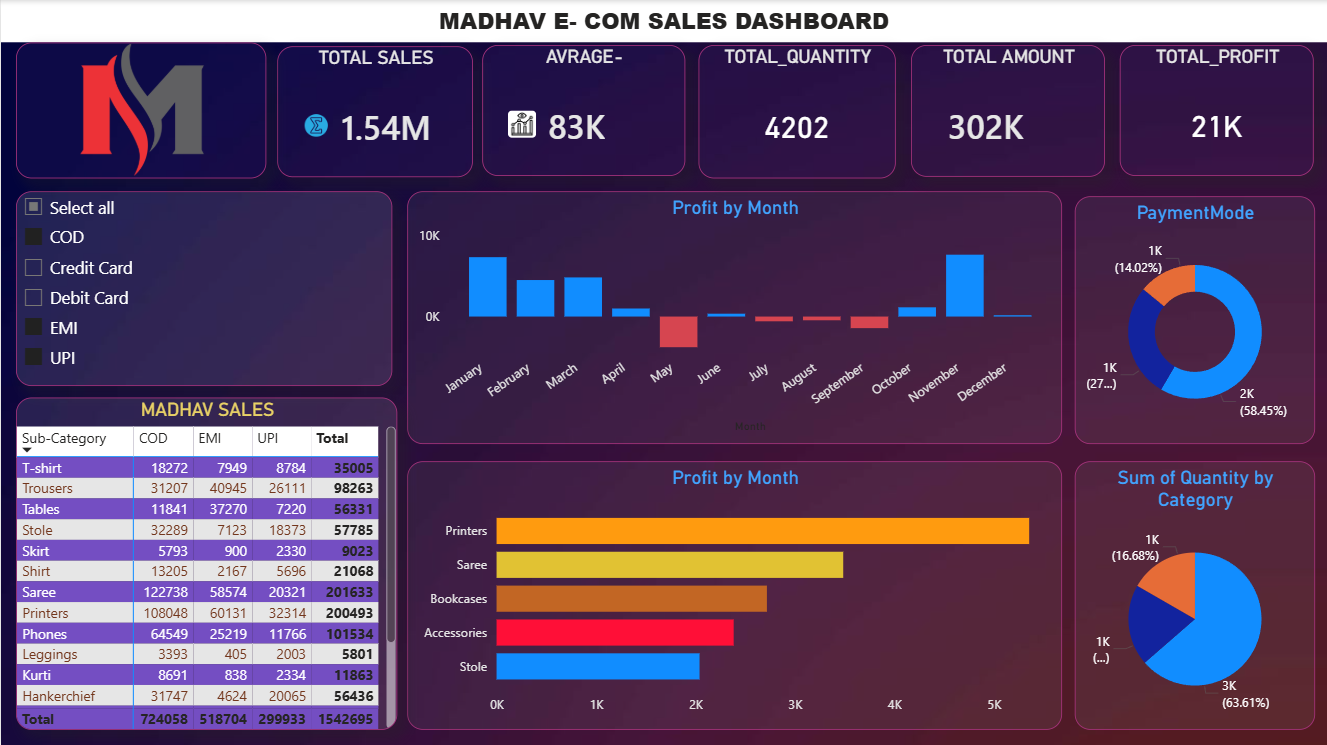

The page's visual inventory and layout, read from the dashboard file:
{"tool":"powerbi","page":{"name":"Page 1","canvas":[1280,720],"ordinal":0},"visuals":[{"type":"textbox","box":[0,0,1280,41],"z":0},{"type":"columnChart","title":"Profit by Month","fields":{"Category":["Orders.Order Date.Variation.Date Hierarchy.Month"],"Y":["Sum(Details.Profit)"]},"box":[392.1,184.6,632.2,243.7],"z":1000},{"type":"barChart","title":"Profit by Month","fields":{"Category":["Details.Sub-Category"],"Y":["Sum(Details.Profit)"]},"box":[392.1,445.2,632.2,259.4],"z":2000},{"type":"pieChart","fields":{"Category":["Details.Category"],"Y":["Sum(Details.Quantity)"]},"box":[1036.3,445.2,231.6,259.4],"z":3000},{"type":"donutChart","title":" PaymentMode","fields":{"Category":["Details.PaymentMode"],"Y":["Sum(Details.Quantity)"]},"box":[1036.3,189.4,231.6,238.9],"z":4000},{"type":"cardVisual","title":"TOTAL SALES","fields":{"Data":["Sum(Details.Sale_price)"]},"box":[266.2,45,188.8,126.2],"z":5000},{"type":"cardVisual","title":"TOTAL AMOUNT","fields":{"Data":["Sum(Details.Amount)"]},"box":[878.8,43.8,187.5,127.5],"z":6000},{"type":"card","title":"TOTAL_PROFIT","fields":{"Values":["Sum(Details.Profit)"]},"box":[1080,43.8,187.5,126.2],"z":7000},{"type":"card","title":"TOTAL_QUANTITY","fields":{"Values":["Sum(Details.Quantity)"]},"box":[673.8,43.8,190,128.8],"z":8000},{"type":"cardVisual","title":"AVRAGE-","fields":{"Data":["Sum(Details.AVG)"]},"box":[465,43.8,196.2,126.2],"z":9000},{"type":"slicer","fields":{"Values":["Details.PaymentMode"]},"box":[14.5,184.6,363.1,188.2],"z":10000},{"type":"pivotTable","title":"MADHAV SALES","fields":{"Columns":["Details.PaymentMode","Details.Amount"],"Values":["Sum(Details.Sale_price)"],"Rows":["Details.Sub-Category"]},"box":[14.5,383.6,368,320.9],"z":11000},{"type":"image","box":[15,41.2,241.2,131.2],"z":12000}]}

Visuals, with their boxes in screenshot pixels (x1, y1, x2, y2), scaled from the page's 1280x720 canvas onto the 1327x745 screenshot:
textbox: [left=0, top=0, right=1326, bottom=42]
"Profit by Month" columnChart: [left=406, top=191, right=1062, bottom=443]
"Profit by Month" barChart: [left=406, top=461, right=1062, bottom=729]
pieChart - Details.Category x Sum(Details.Quantity): [left=1074, top=461, right=1314, bottom=729]
" PaymentMode" donutChart: [left=1074, top=196, right=1314, bottom=443]
"TOTAL SALES" cardVisual: [left=276, top=47, right=472, bottom=177]
"TOTAL AMOUNT" cardVisual: [left=911, top=45, right=1105, bottom=177]
"TOTAL_PROFIT" card: [left=1120, top=45, right=1314, bottom=176]
"TOTAL_QUANTITY" card: [left=699, top=45, right=896, bottom=179]
"AVRAGE-" cardVisual: [left=482, top=45, right=685, bottom=176]
slicer - Details.PaymentMode: [left=15, top=191, right=391, bottom=386]
"MADHAV SALES" pivotTable: [left=15, top=397, right=397, bottom=729]
image: [left=16, top=43, right=266, bottom=178]
